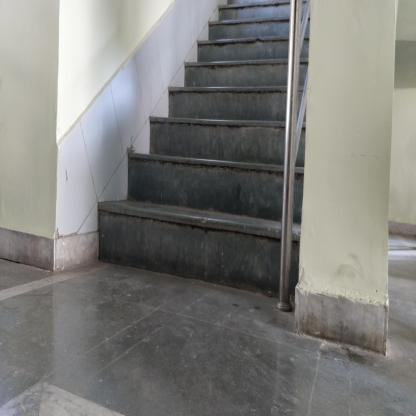stairs: (200, 38, 277, 319)
